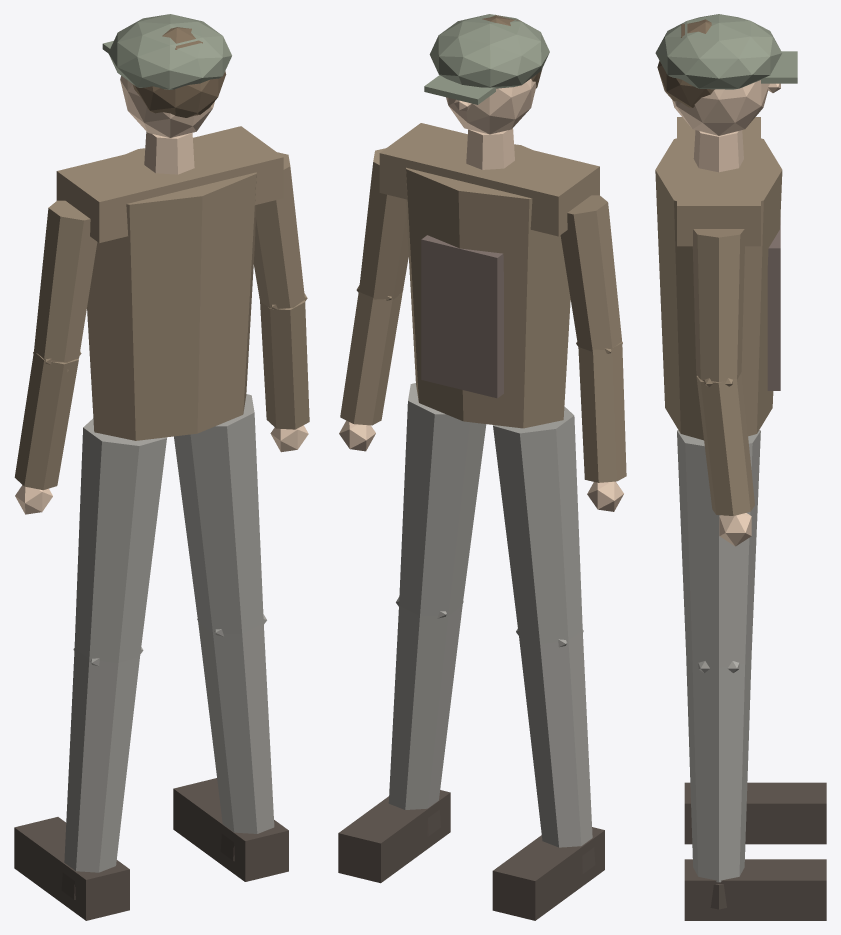
Rendered from townsman_standing.glb.
3 views of the same model, side by side, from view 1: azimuth 30°, elevation 25°; view 2: azimuth 150°, elevation 25°; view 3: azimuth 270°, elevation 25° (orthographic). The views are drawn at different scales.
Parts seen in each view (by area): view 1: tweed_brown, tweed_grey, boot, tweed_green, skin, hair; view 2: tweed_brown, tweed_grey, boot, waistcoat, tweed_green, skin; view 3: tweed_brown, tweed_grey, boot, tweed_green, skin, waistcoat, hair.
Part boxes in pixels (x1,y1,x2,y2): tweed_brown: [14, 126, 309, 490]; tweed_grey: [64, 394, 274, 872]; boot: [14, 778, 288, 920]; tweed_green: [102, 14, 231, 89]; skin: [15, 76, 308, 514]; hair: [132, 27, 226, 117]; tweed_brown: [340, 123, 626, 482]; tweed_grey: [388, 383, 592, 847]; boot: [338, 790, 604, 920]; waistcoat: [421, 235, 503, 398]; tweed_green: [424, 14, 549, 104]; skin: [339, 79, 623, 511]; tweed_brown: [655, 117, 782, 515]; tweed_grey: [677, 430, 760, 882]; boot: [684, 782, 826, 920]; tweed_green: [655, 14, 797, 89]; skin: [672, 80, 780, 546]; waistcoat: [767, 217, 780, 390]; hair: [657, 19, 714, 107].
Bounding box in the file's own units: 0.6266 × 1.78 × 0.3259.
